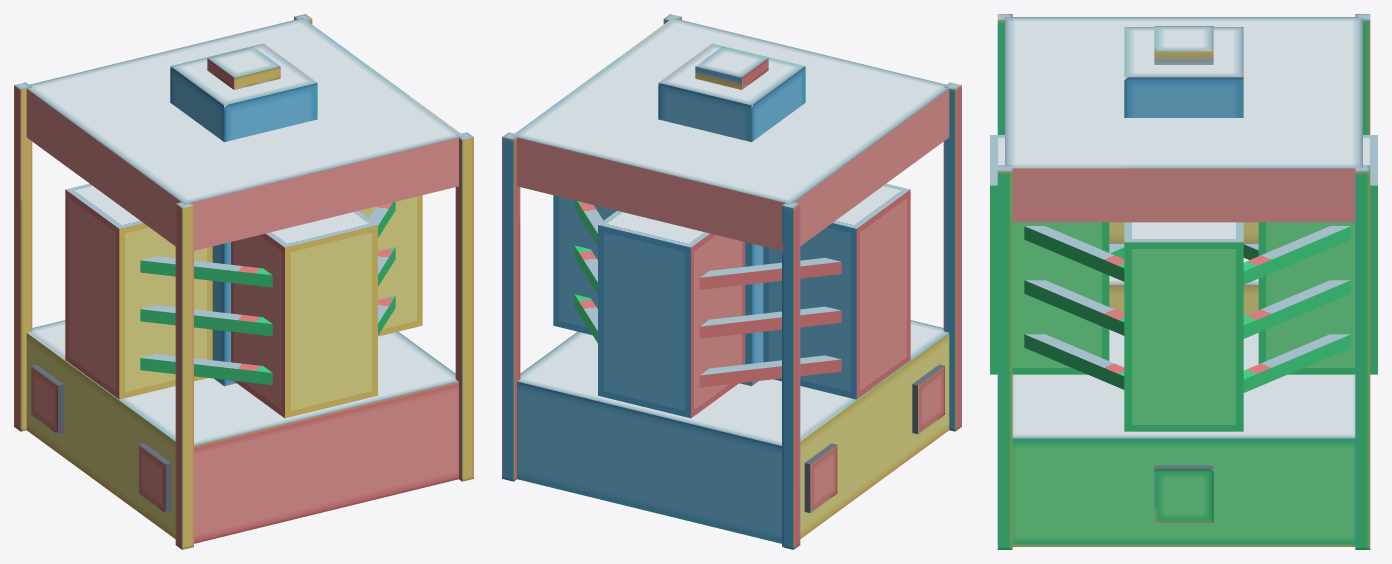
File: centrifuge.obj
3 renders of one model, left to right at view 1: azimuth 30°, elevation 25°; view 2: azimuth 150°, elevation 25°; view 3: azimuth 270°, elevation 25°, orthographic. The views are drawn at different scales.
Visible parts, largest first — view 1: centrifuge_base; view 2: centrifuge_base; view 3: centrifuge_base.
Boxes of the visible parts, x1,y1,x2,y2 form: centrifuge_base: (14, 14, 473, 549); centrifuge_base: (502, 14, 961, 549); centrifuge_base: (990, 14, 1377, 549).
Size of the model in its own units: 3.25 by 4 by 3.25.
